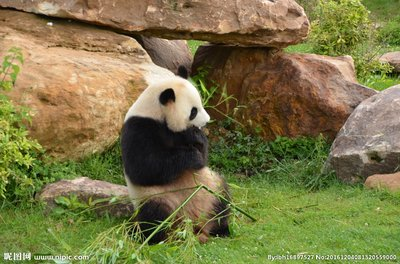panda: (118, 66, 235, 244)
